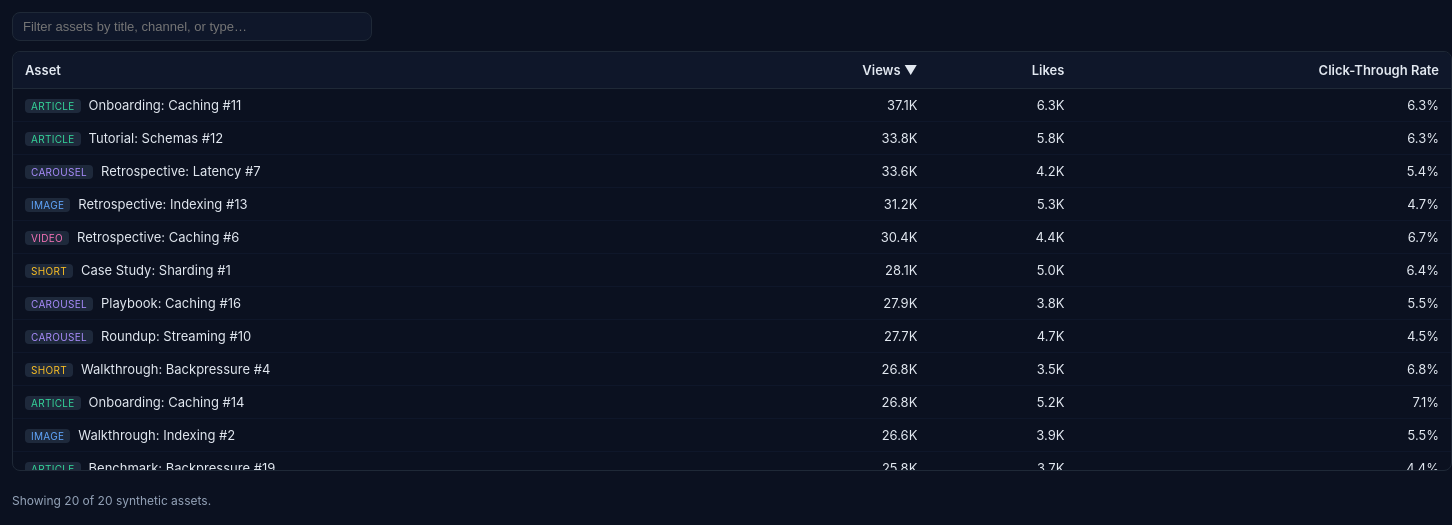
Test case: MetricsTable › toggles sort direction when a header is clicked
# Likes is not the default sort column, so it starts unsorted.
What coordinates should you click on to do the following:
click the column heading "Likes"
I would click on:
 (1003, 70)
Its box is [929,52,1076,88].
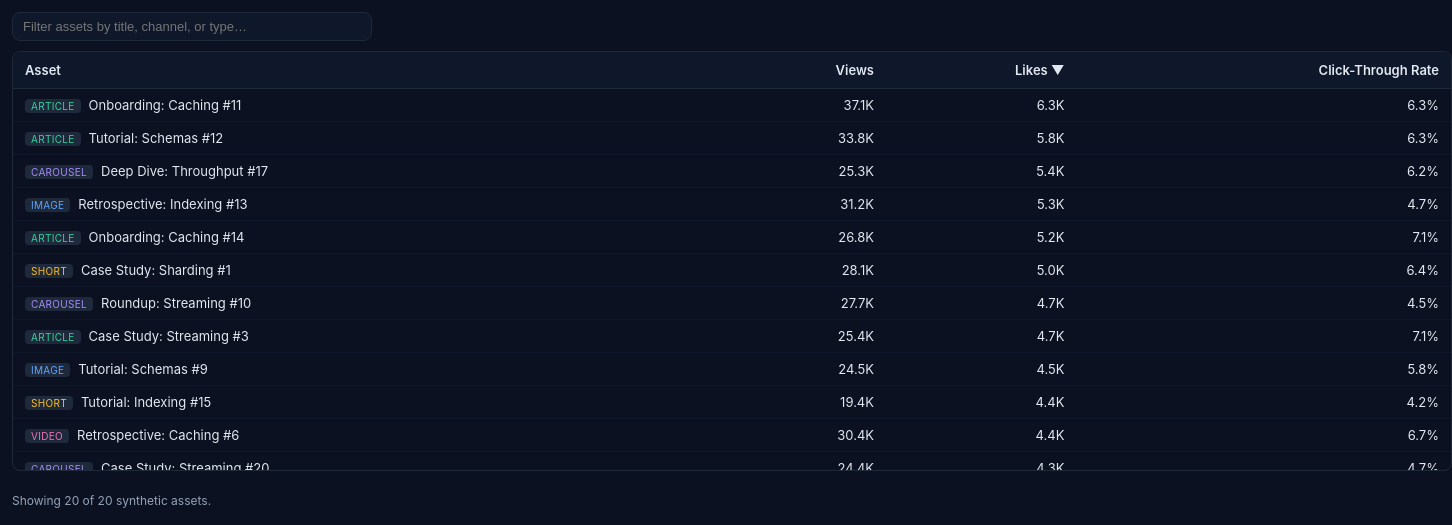
Check: the column heading "Likes ▼" is shown
What coordinates should you click on to do the following:
click the column heading "Likes ▼"
I would click on:
 (981, 70)
Its box is [886,52,1076,88].
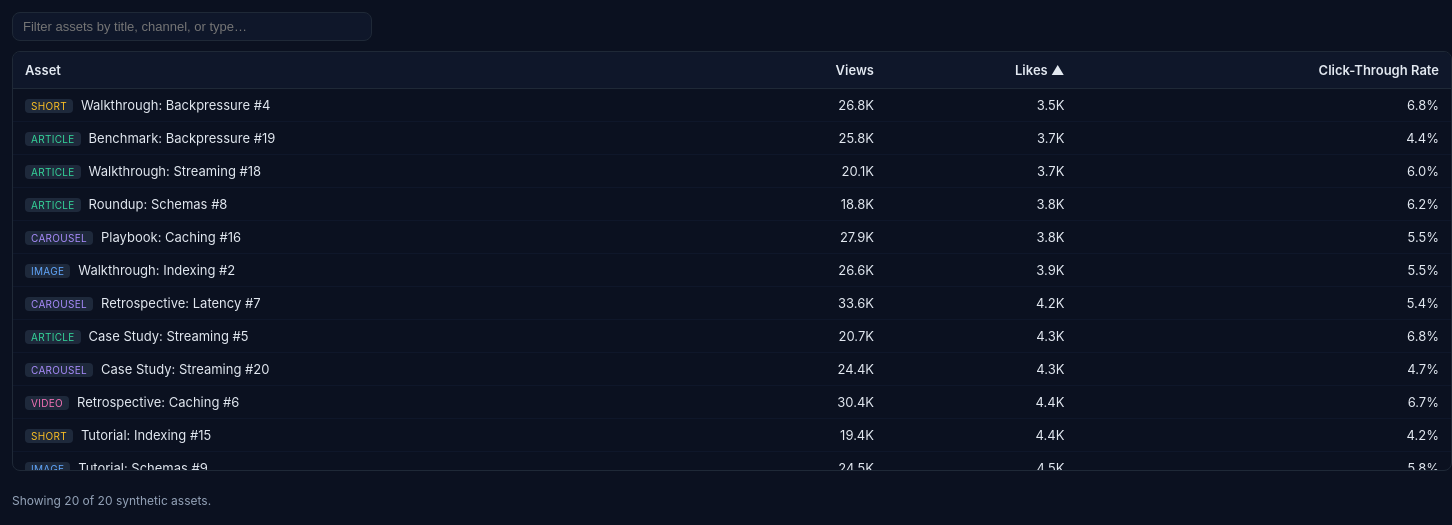
Check: the column heading "Likes ▲" is shown, box [886,52,1076,88]
